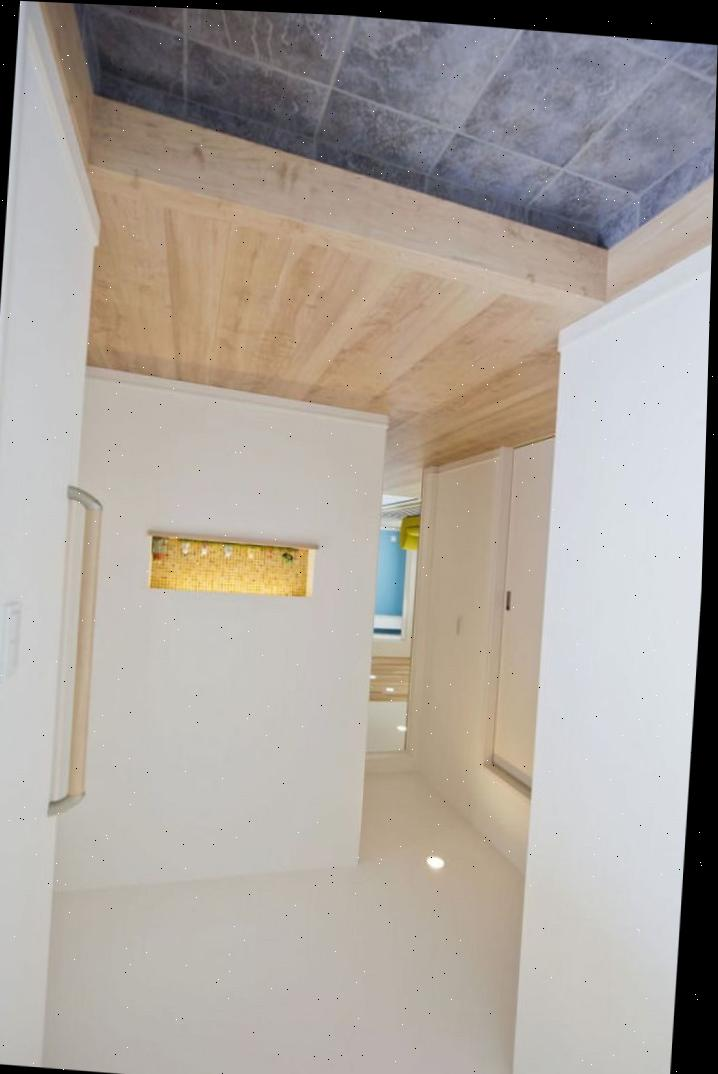floor: (84, 4, 718, 227)
safe: (84, 162, 605, 497)
